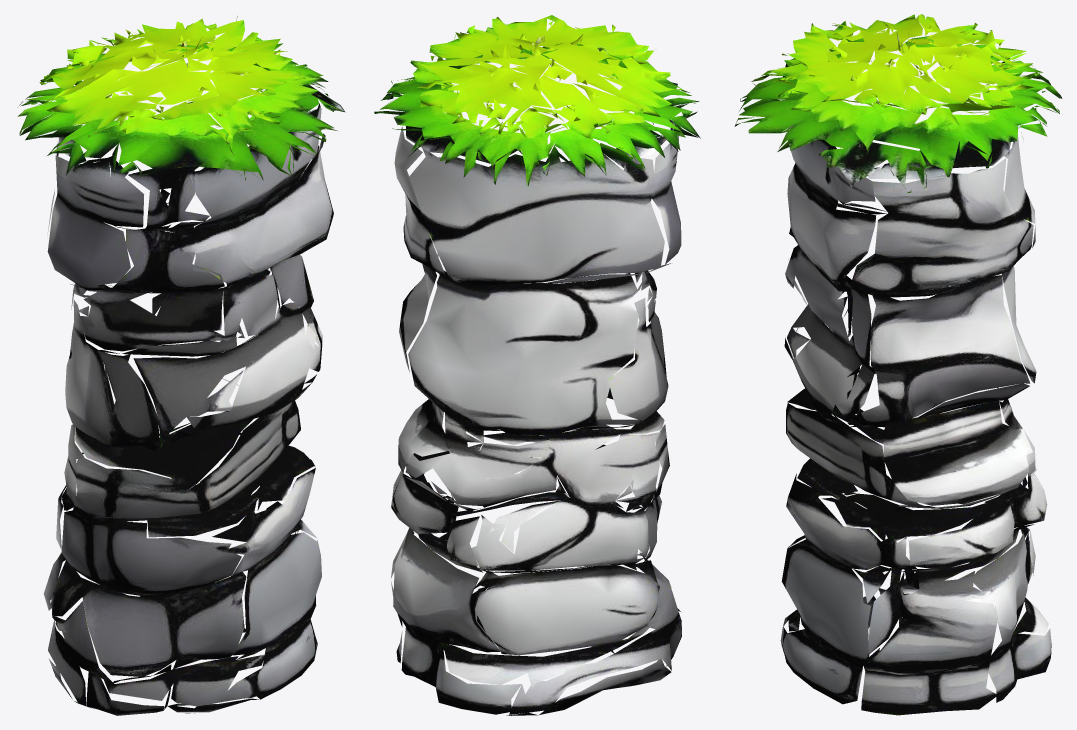
The model's file is kayalik_sutun.glb.
3 renders of one model, left to right at view 1: azimuth 30°, elevation 25°; view 2: azimuth 150°, elevation 25°; view 3: azimuth 270°, elevation 25°, orthographic.
Visible parts, largest first — view 1: geometry_0; view 2: geometry_0; view 3: geometry_0.
Part boxes in pixels (x1,y1,x2,y2): geometry_0: (17, 16, 345, 715); geometry_0: (374, 15, 700, 715); geometry_0: (734, 14, 1062, 715).
Bounding box in the file's own units: 0.4834 × 0.9974 × 0.4736.
1 material, 1 textured.
